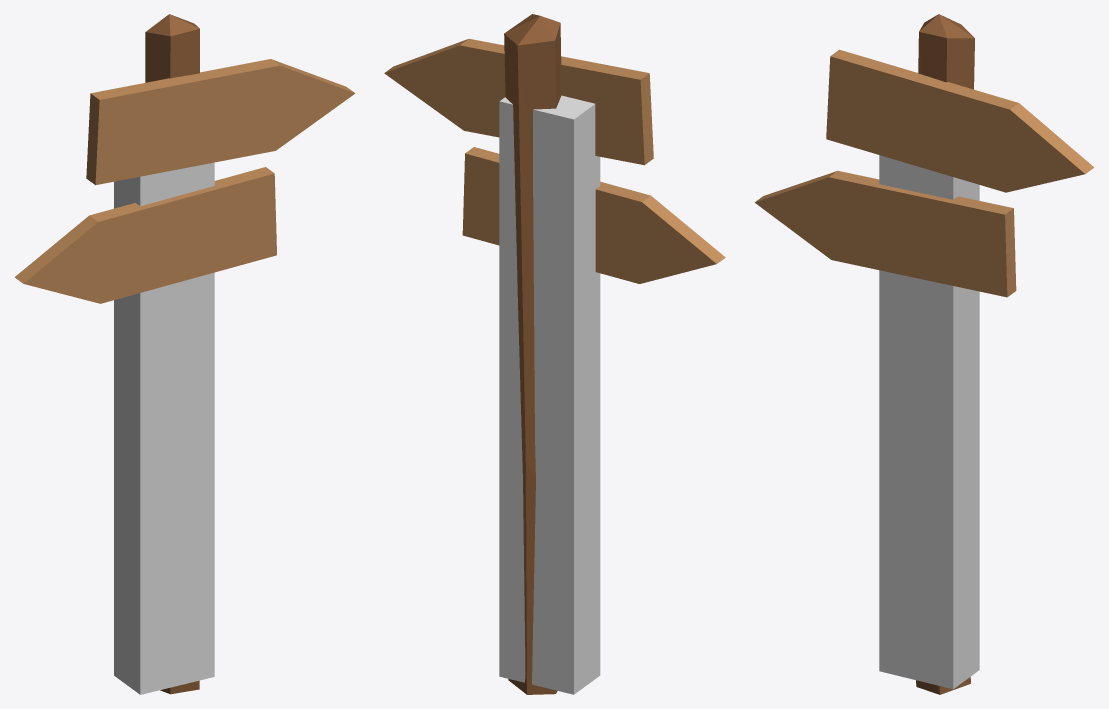
Rendered from pointer_3.glb.
The picture shows the model from 3 angles, left to right: view 1: azimuth 30°, elevation 25°; view 2: azimuth 150°, elevation 25°; view 3: azimuth 330°, elevation 25°; orthographic projection.
Parts seen in each view (by area): view 1: Pointer_03, Cube.009; view 2: Cube.009, Pointer_03; view 3: Pointer_03, Cube.009.
Part boxes in pixels (bbox=[...]): Pointer_03: bbox=[14, 14, 355, 694]; Cube.009: bbox=[114, 162, 214, 694]; Cube.009: bbox=[499, 95, 600, 694]; Pointer_03: bbox=[384, 14, 725, 694]; Pointer_03: bbox=[755, 14, 1093, 694]; Cube.009: bbox=[879, 155, 979, 689].
Size of the model in its own units: 0.8825 by 1.7 by 0.1616.
Materials: 1 (1 with a texture image).
